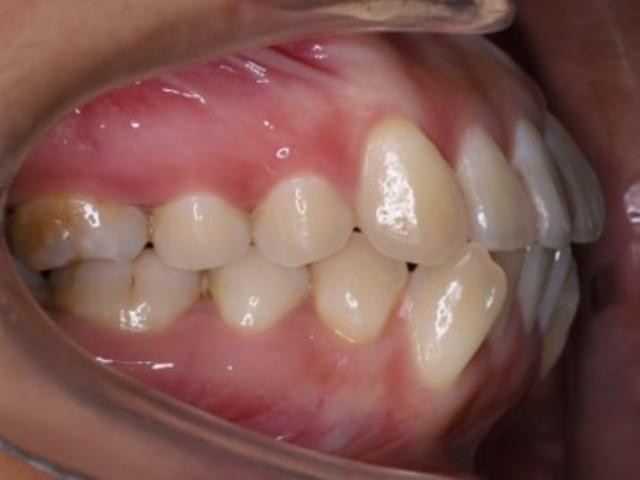canine class II 1/4: (312, 98, 506, 398)
molar class III 1/4: (5, 181, 208, 336)
